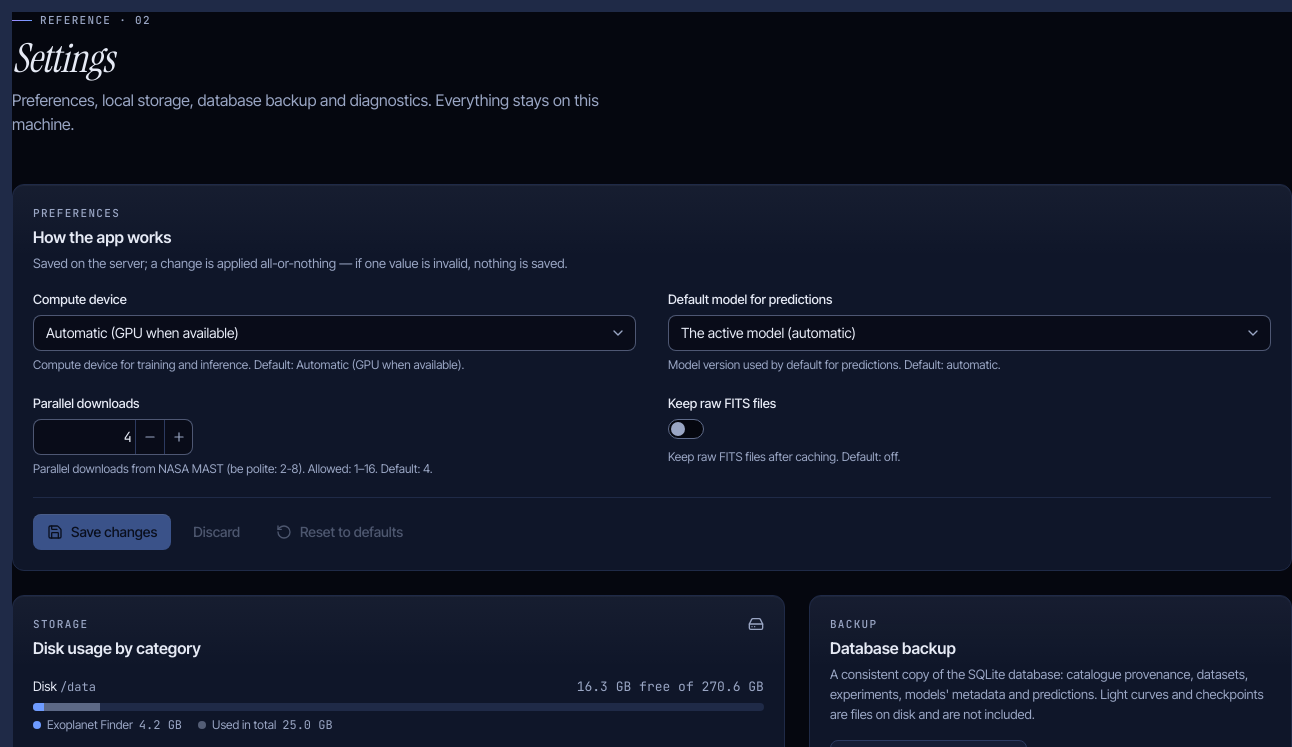
Settings › saves only the changed values
The width and height of the screenshot is (1292, 747).
Select "CPU" in the dropdown labelled "Compute device": (334, 333) [33,315,636,351]
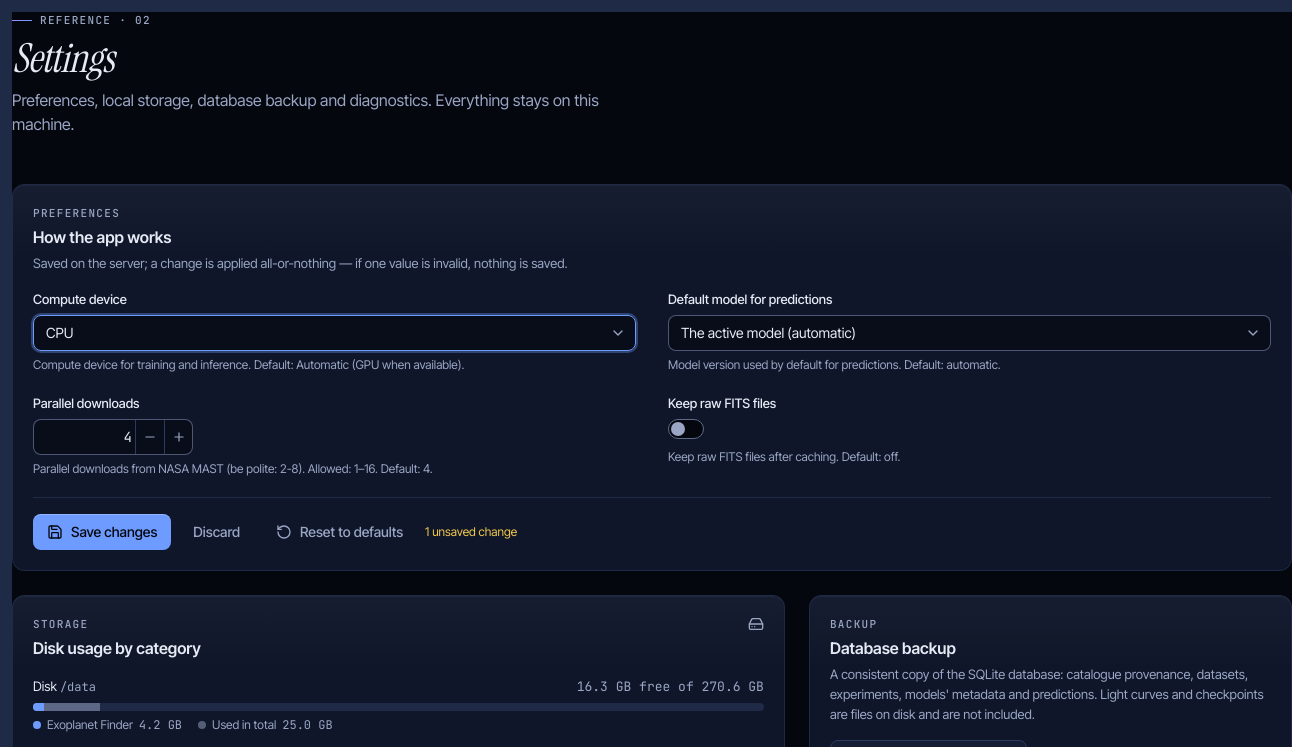
Select "Pilot DR24 v1 - Logistic regression · active" in the dropdown labelled "Default model for predictions": (970, 333) [668,315,1271,351]
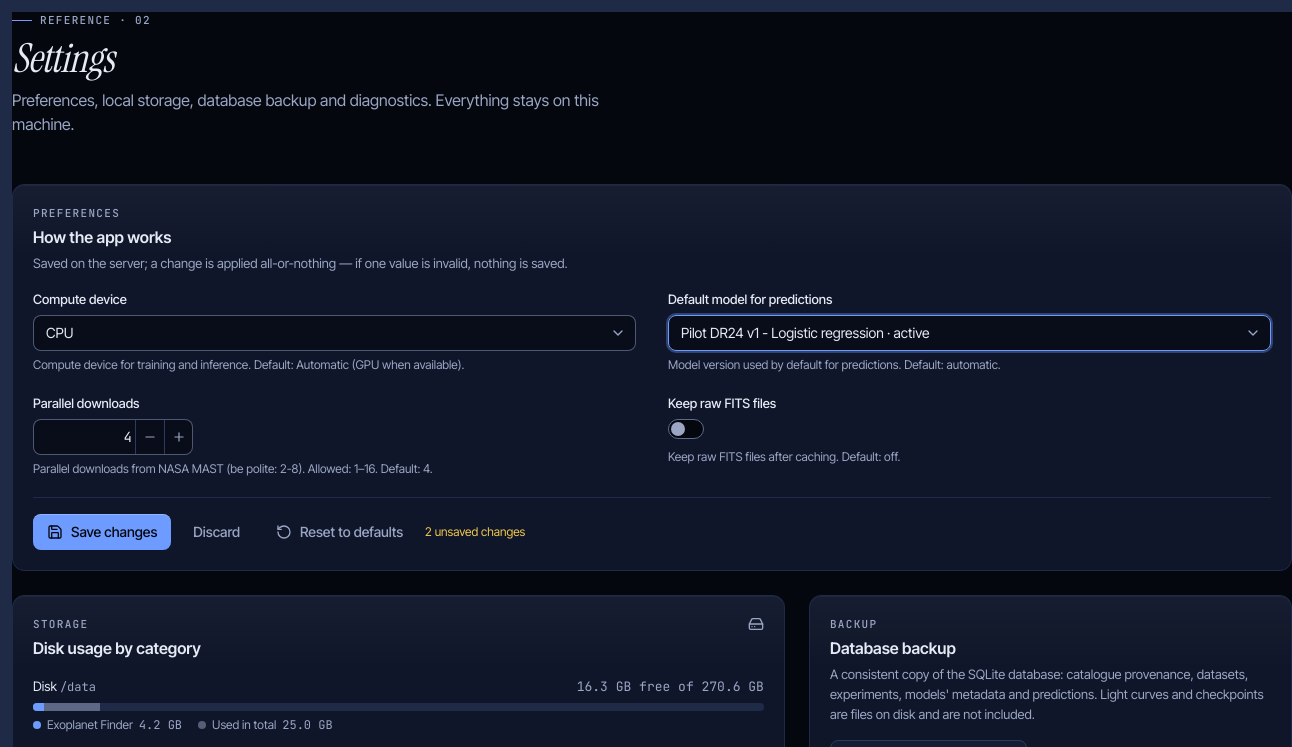
Now the text "2 unsaved changes" is shown, box [425,524,525,540]
Click the button "Save changes": (102, 532) [33,514,171,550]
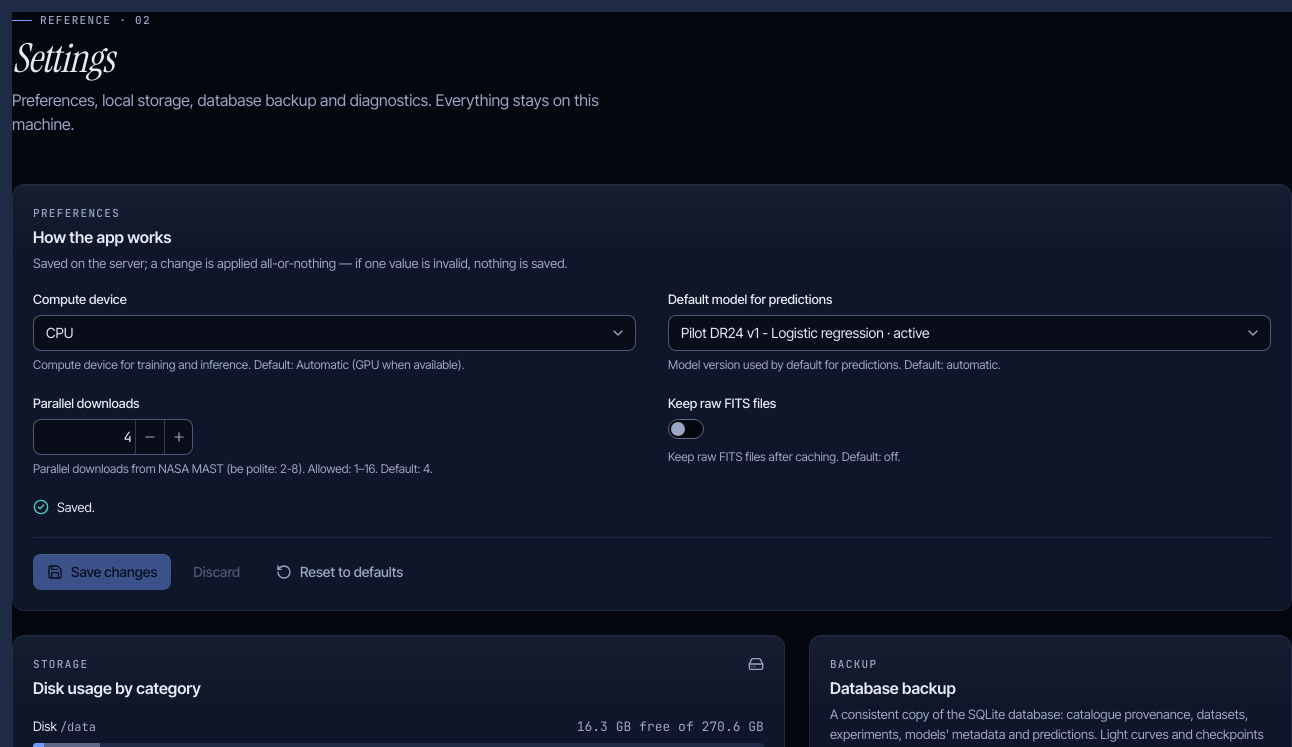
Now the text "Saved." is shown, box [33,499,95,515]
